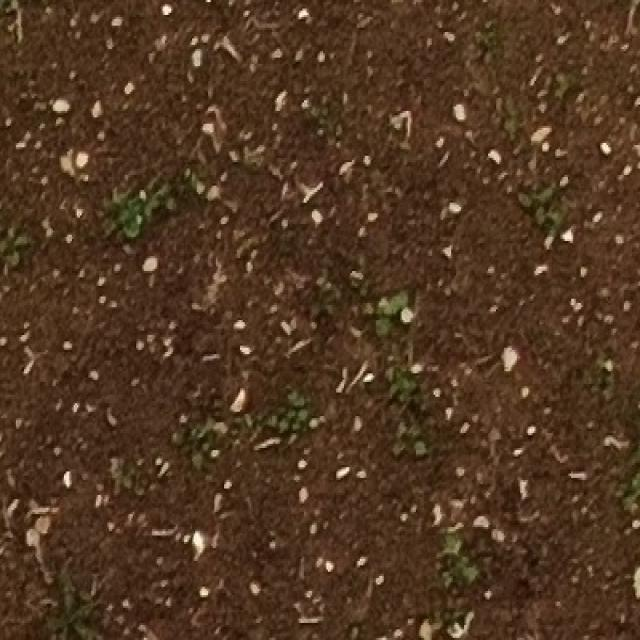cirse: (40, 544, 110, 616), (45, 550, 113, 620), (40, 576, 110, 640)
